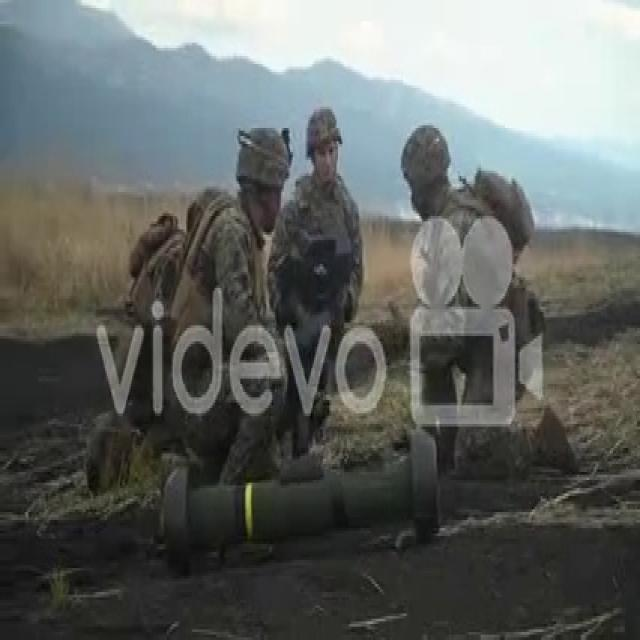bazooka: (148, 417, 447, 556)
